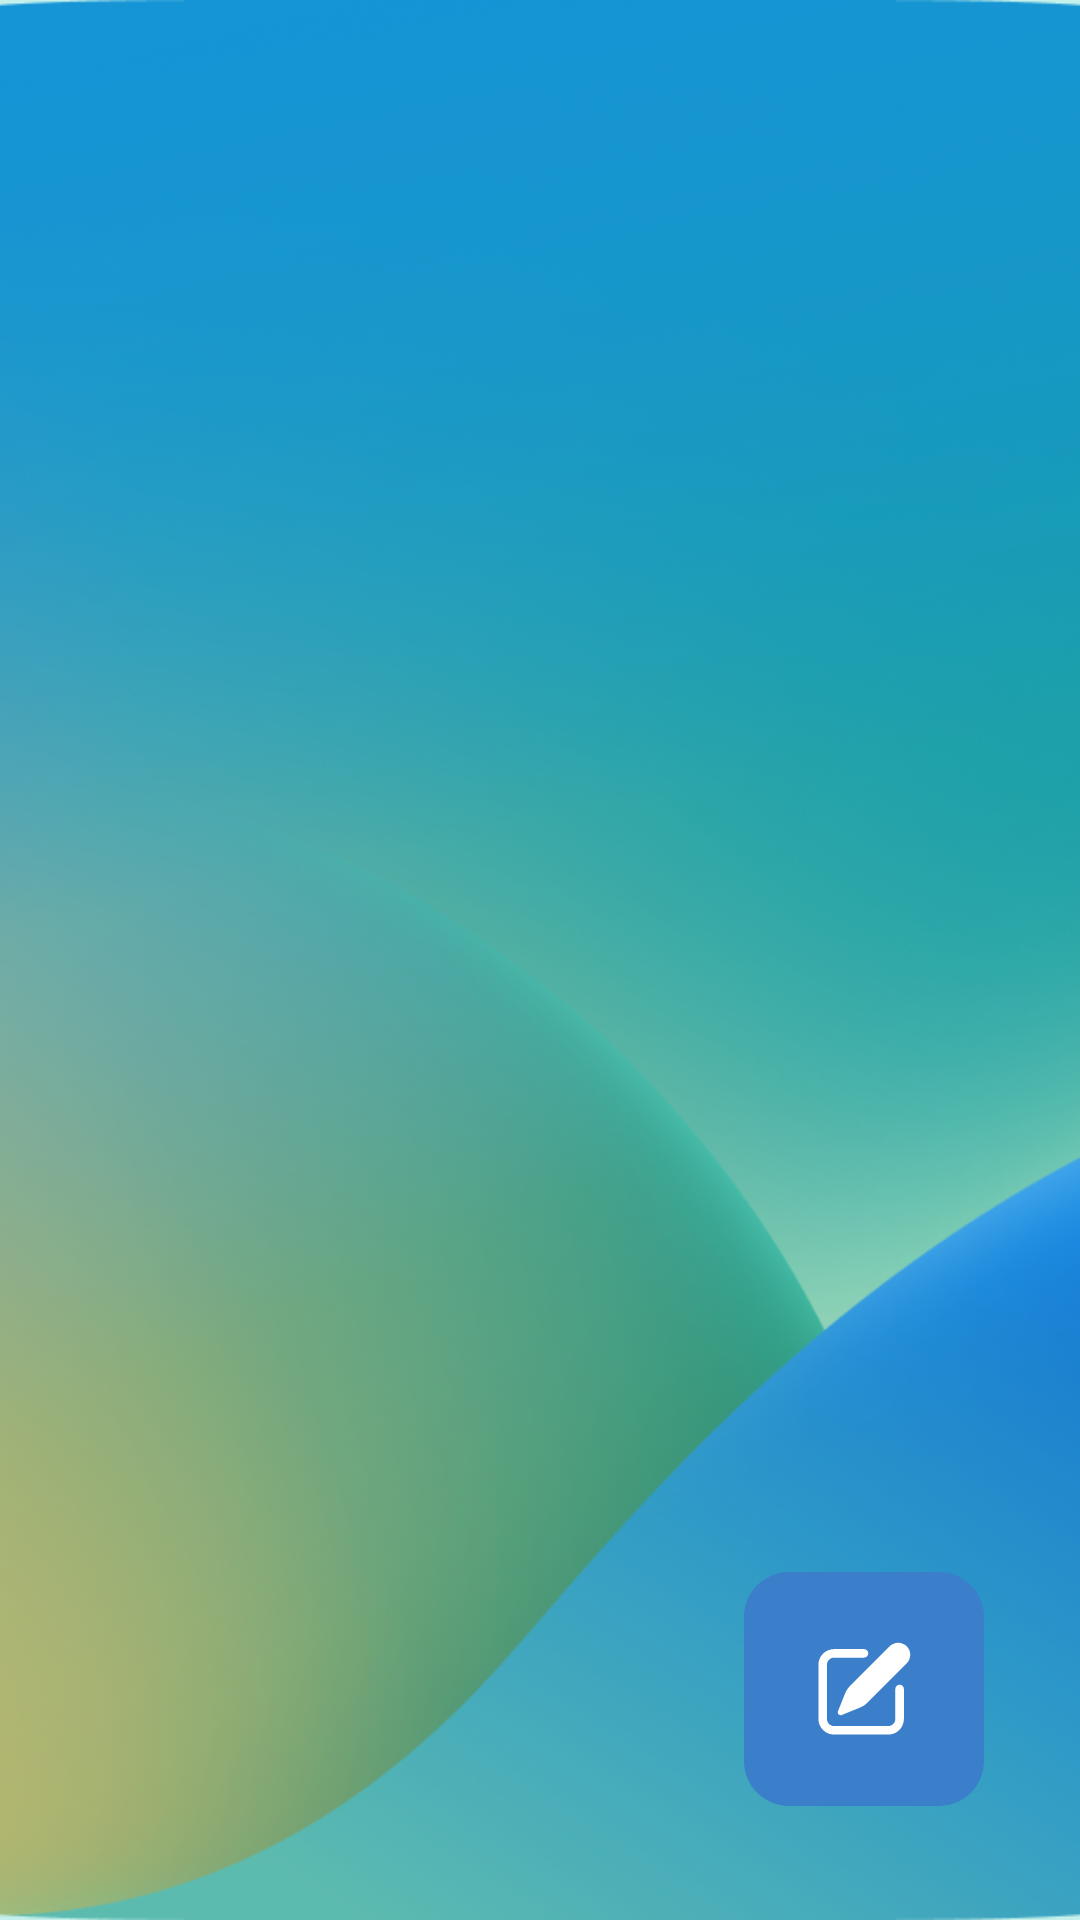

Where to tap for icons on this 1080 × 1920 app screen, as (x=x, y=y):
pencil square: (x=864, y=1698)
